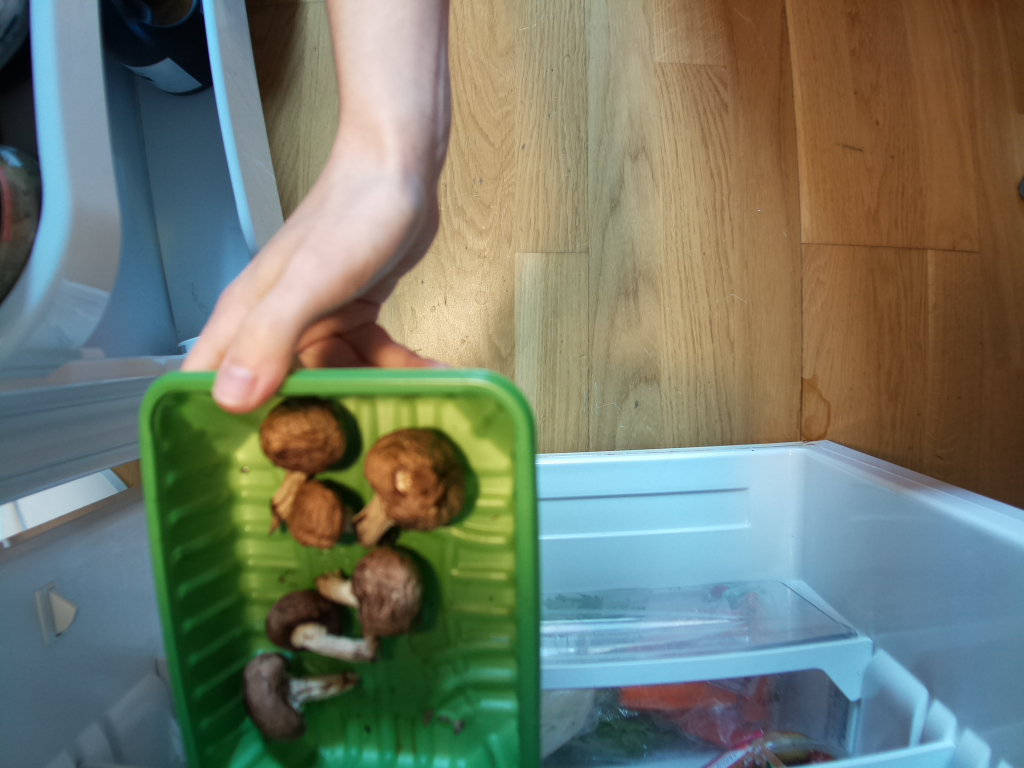mushrooms-bad: (141, 370, 552, 768)
